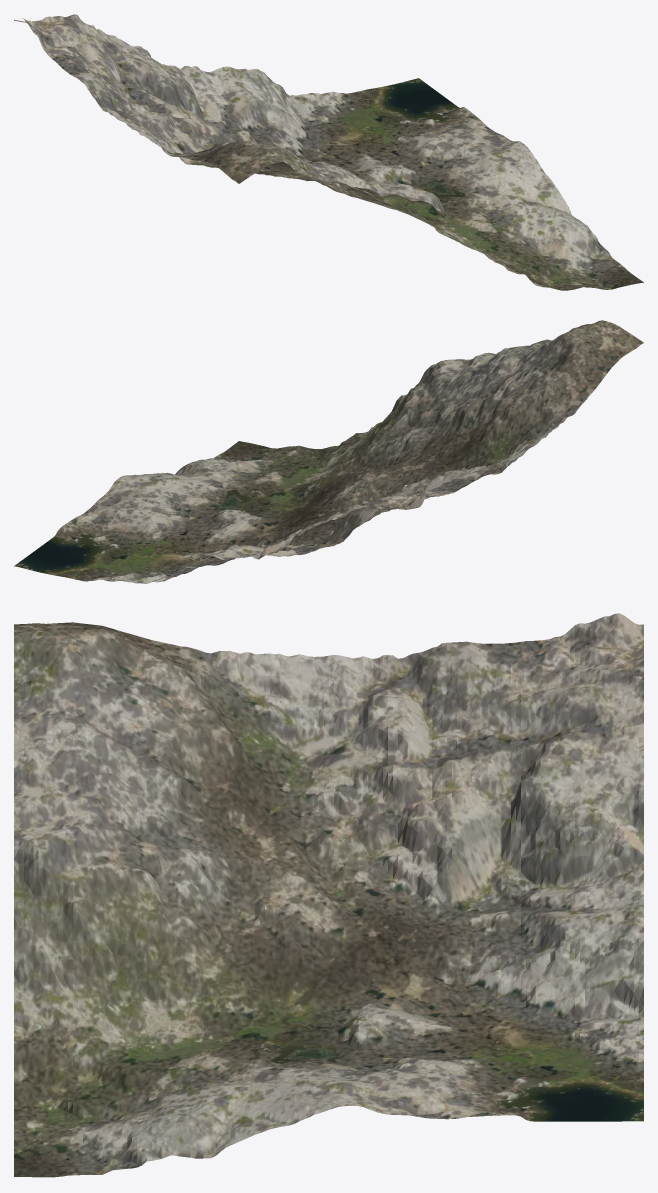
3 renders of one model, top to bottom at view 1: azimuth 30°, elevation 25°; view 2: azimuth 150°, elevation 25°; view 3: azimuth 270°, elevation 25°, orthographic. The views are drawn at different scales.
Size of the model in its own units: 500 by 251 by 481.
Materials: 1 (1 with a texture image).
